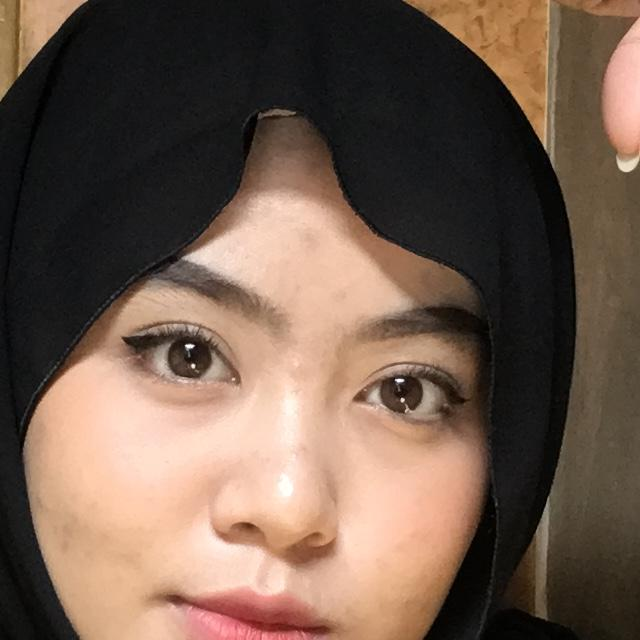sedih: (440, 0, 640, 275)
